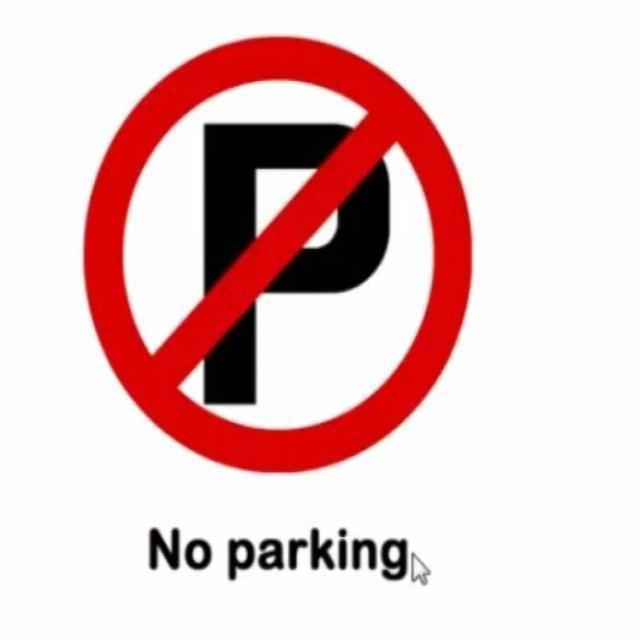no parking: (76, 26, 477, 480)
